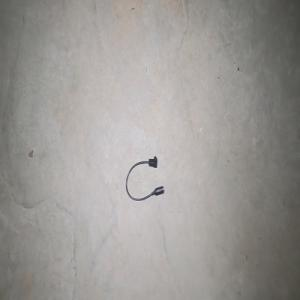Wire: (125, 156, 164, 200)
